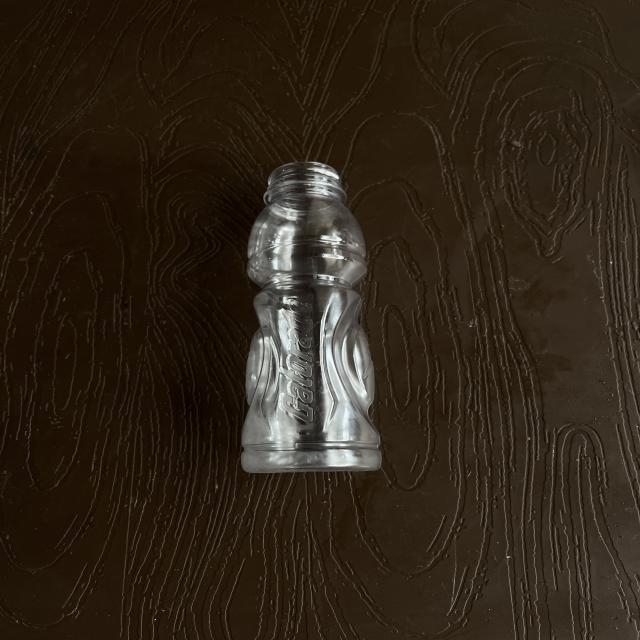PET_ClearBottle: (230, 164, 392, 478)
